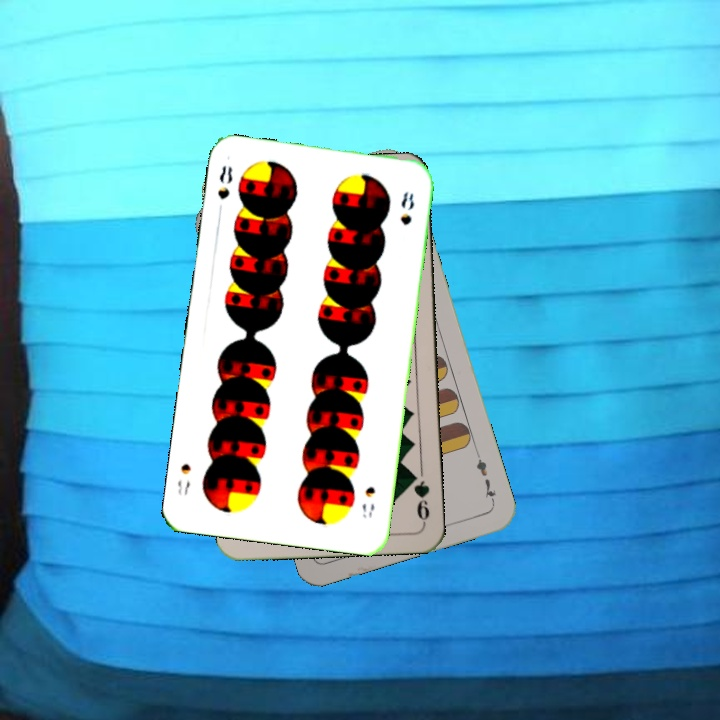E7: (472, 455, 499, 506)
G9: (407, 468, 432, 527)
S8: (214, 162, 235, 202), (358, 482, 378, 521)
